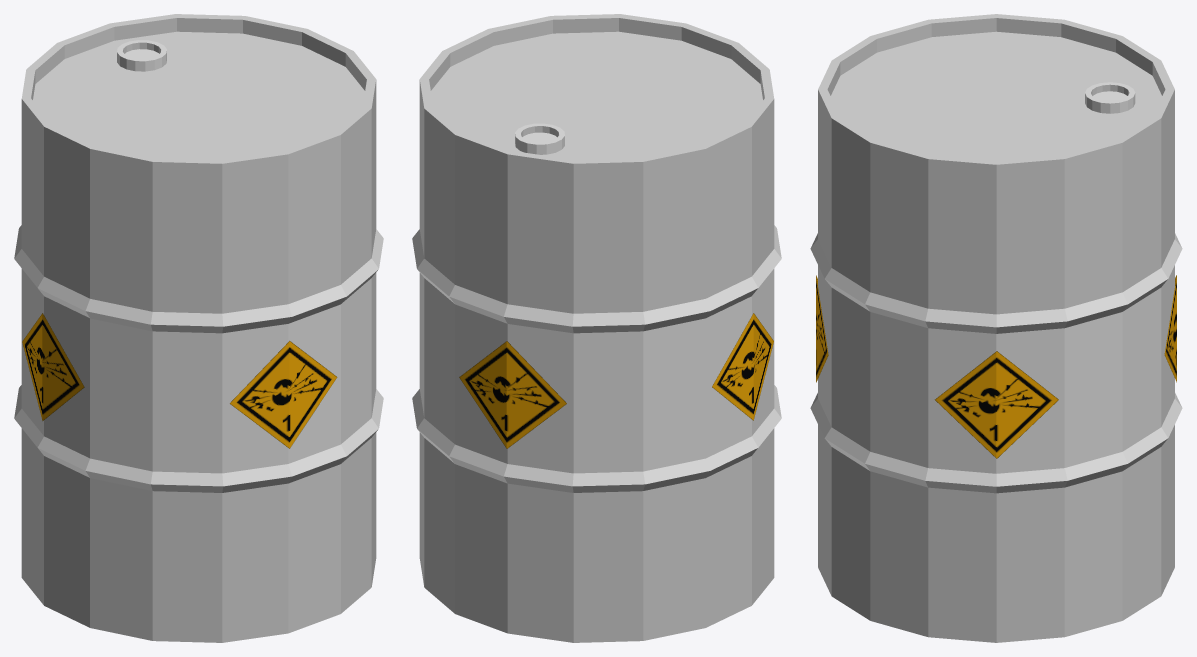
Rendered from Barrel.fbx.
3 renders of one model, left to right at view 1: azimuth 30°, elevation 25°; view 2: azimuth 150°, elevation 25°; view 3: azimuth 270°, elevation 25°, orthographic.
Parts seen in each view (by area): view 1: Cylinder; view 2: Cylinder; view 3: Cylinder.
Part boxes in pixels (<box>): Cylinder: <box>14,14,383,642</box>; Cylinder: <box>412,14,781,642</box>; Cylinder: <box>810,14,1182,642</box>.
Bounding box in the file's own units: 71.64 × 102 × 71.64.
